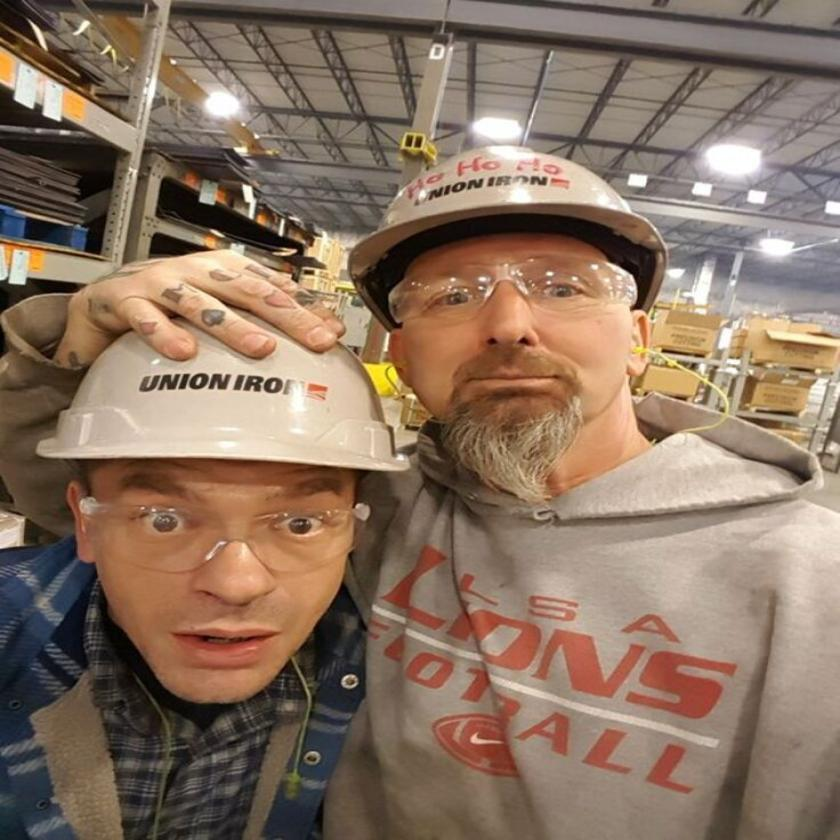Con_casco: (36, 304, 406, 724), (332, 136, 680, 473)
